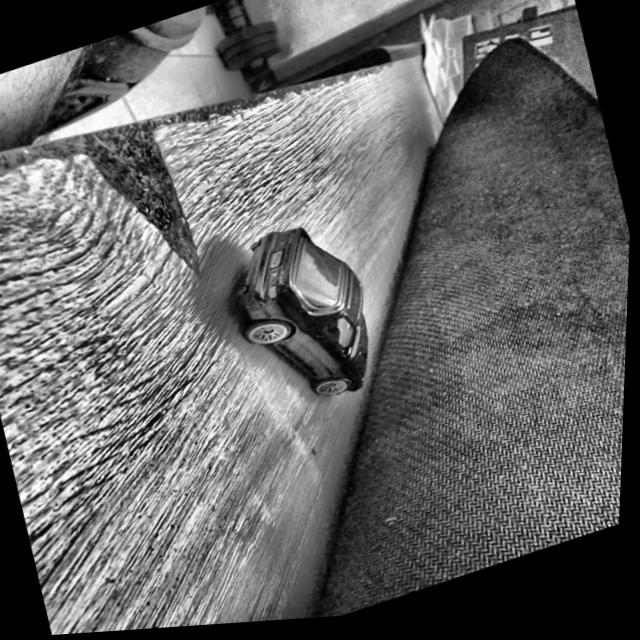car: (217, 210, 394, 429)
